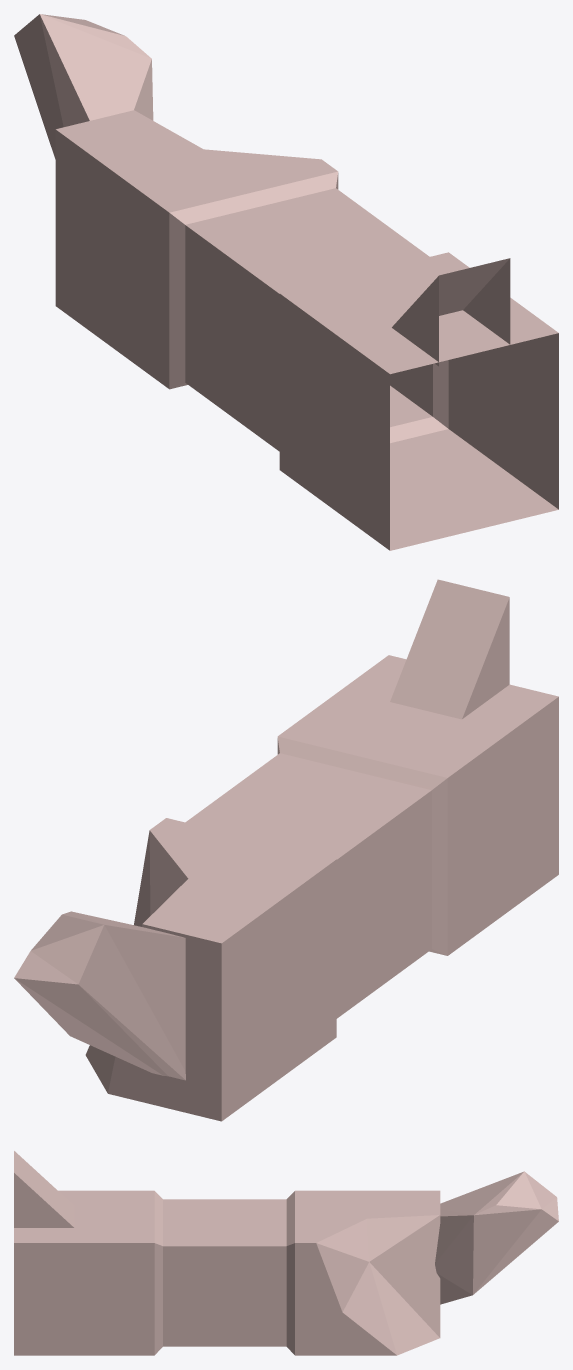
3 views of the same model, one above another, from view 1: azimuth 30°, elevation 25°; view 2: azimuth 150°, elevation 25°; view 3: azimuth 270°, elevation 25° (orthographic). The views are drawn at different scales.
Parts seen in each view (by area): view 1: Object26; view 2: Object26; view 3: Object26.
Part boxes in pixels (<box>): Object26: <box>14,14,558,550</box>; Object26: <box>14,579,558,1121</box>; Object26: <box>14,1151,558,1355</box>.
Size of the model in its own units: 13699 by 20433 by 60127.
